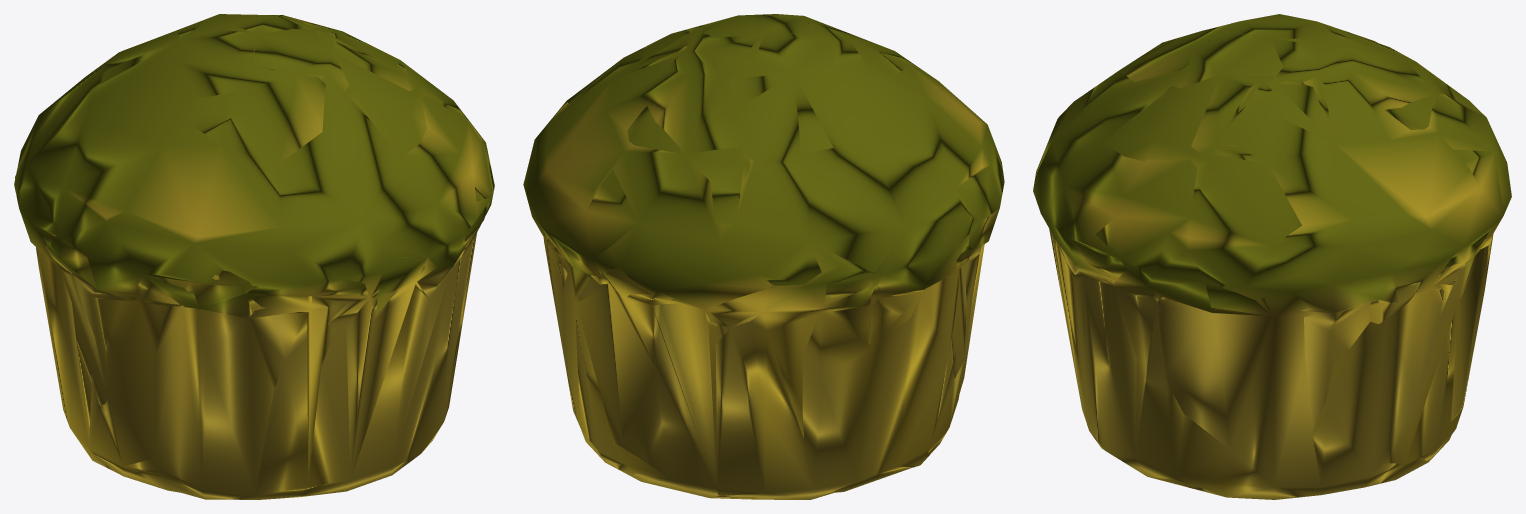
Rendered from gen3d-muffin-lod1.glb.
The picture shows the model from 3 angles, left to right: view 1: azimuth 30°, elevation 25°; view 2: azimuth 150°, elevation 25°; view 3: azimuth 270°, elevation 25°; orthographic projection.
Parts seen in each view (by area): view 1: part_0; view 2: part_0; view 3: part_0.
Part boxes in pixels (x1,y1,x2,y2): part_0: (14,14,494,499); part_0: (523,14,1004,499); part_0: (1033,14,1511,499).
Size of the model in its own units: 1.11 by 0.9953 by 1.11.
